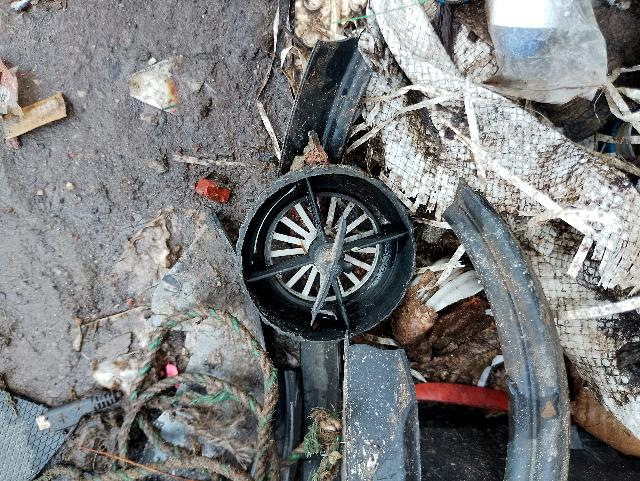hardplastic: (246, 165, 413, 337), (289, 346, 412, 481)
